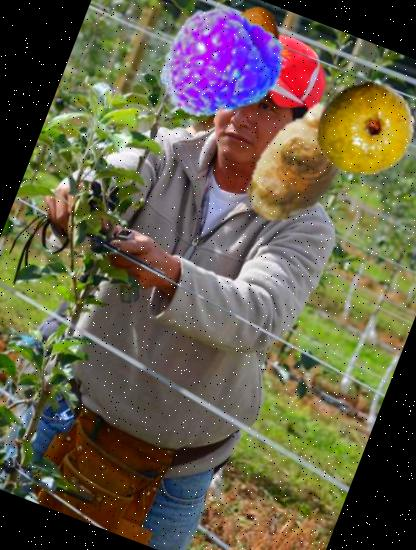Ginger: (211, 72, 393, 254)
Guava: (300, 65, 416, 194)
Kiwi: (225, 0, 291, 63)
Raspberry: (139, 0, 300, 140)
